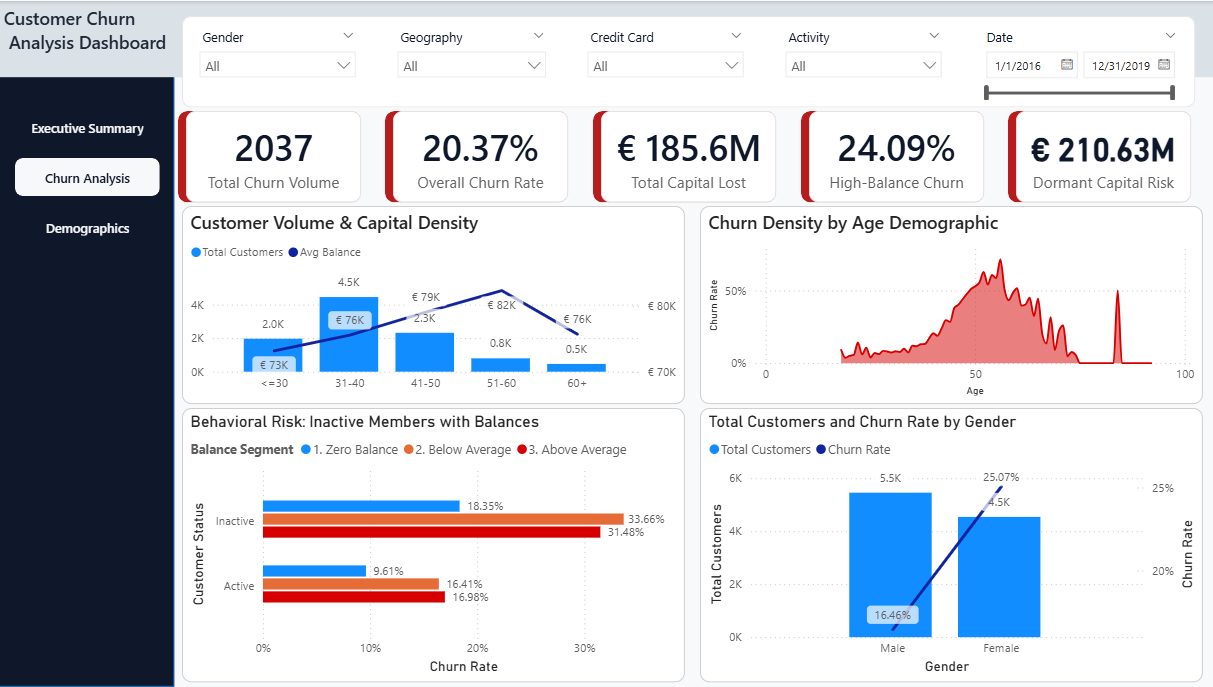

What the dashboard file says about the page in this screenshot:
{"tool":"powerbi","page":{"name":"Churn Analysis","canvas":[1280,720],"ordinal":1},"visuals":[{"type":"shape","box":[0,0,184,720],"z":0},{"type":"shape","box":[623.7,115.8,192,96],"z":0,"group":"g3"},{"type":"shape","box":[841.7,115.8,192,96],"z":0,"group":"g5"},{"type":"shape","box":[184,0,1096,80],"z":1000},{"type":"shape","box":[1059.7,115.8,192,96],"z":1000,"group":"g4"},{"type":"textbox","box":[0,0,224,80],"z":2000},{"type":"shape","box":[192,16,1064,96],"z":2000,"group":"g1"},{"type":"shape","box":[187.7,115.8,192,96],"z":2000,"group":"g2"},{"type":"shape","box":[405.7,115.8,192,96],"z":2000,"group":"g6"},{"type":"actionButton","box":[16.5,111.9,152,40],"z":3000},{"type":"slicer","fields":{"Values":["Geography.GeographyLocation"]},"box":[408,24,176,80],"z":4000,"group":"g1"},{"type":"actionButton","box":[16.5,217.5,152,40],"z":4000},{"type":"actionButton","box":[16.5,164.7,152,40],"z":5000},{"type":"slicer","fields":{"Values":["Gender.GenderCategory"]},"box":[200,24,184,80],"z":6000,"group":"g1"},{"type":"slicer","fields":{"Values":["CreditCard.Category"]},"box":[608,24,184,80],"z":7000,"group":"g1"},{"type":"card","fields":{"Values":["Bank_Churn.Total Churned"]},"box":[195.7,115.8,184,96],"z":8000,"group":"g2"},{"type":"card","fields":{"Values":["Bank_Churn.Churn Rate"]},"box":[413.7,115.8,184,96],"z":8000,"group":"g6"},{"type":"group","id":"g1","title":"Group 6","box":[192,16,1072,96],"z":9000},{"type":"slicer","fields":{"Values":["ActiveCustomer.ActiveCategory"]},"box":[816,24,184,80],"z":9000,"group":"g1"},{"type":"slicer","fields":{"Values":["Bank_Churn.Bank DOJ"]},"box":[1024,24,224,80],"z":10000,"group":"g1"},{"type":"group","id":"g2","title":"Group 2","box":[187.7,115.8,192,96],"z":10000},{"type":"group","id":"g3","title":"Group 3","box":[623.7,115.8,192,96],"z":11000},{"type":"card","fields":{"Values":["Bank_Churn.At-Risk High-Value"]},"box":[1067.7,115.8,184,96],"z":11000,"group":"g4"},{"type":"card","fields":{"Values":["Bank_Churn.Churn Rate (Above Avg)"]},"box":[849.7,115.8,184,96],"z":12000,"group":"g5"},{"type":"group","id":"g4","title":"Group 4","box":[1059.7,115.8,192,96],"z":12000},{"type":"group","id":"g5","title":"Group 5","box":[841.7,115.8,192,96],"z":13000},{"type":"card","fields":{"Values":["Bank_Churn.Total Churn Loss"]},"box":[631.7,115.8,184,96],"z":14000,"group":"g3"},{"type":"areaChart","title":"Churn Density by Age Demographic","fields":{"Y":["Bank_Churn.Churn Rate"],"Category":["Bank_Churn.Age"]},"box":[736,215,528,208],"z":14000},{"type":"group","id":"g6","title":"Group 2","box":[405.7,115.8,192,96],"z":15000},{"type":"lineClusteredColumnComboChart","title":"Customer Volume & Capital Density","fields":{"Category":["Bank_Churn.Age Group"],"Y":["Bank_Churn.Total Customers"],"Y2":["Bank_Churn.Avg Balance"]},"box":[192,215,528,208],"z":16000},{"type":"lineClusteredColumnComboChart","fields":{"Category":["Gender.Gender"],"Y":["Bank_Churn.Total Customers"],"Y2":["Bank_Churn.Churn Rate"]},"box":[736,427,528,288],"z":17000},{"type":"clusteredBarChart","title":"Behavioral Risk: Inactive Members with Balances","fields":{"Category":["ActiveCustomer.Customer Status"],"Y":["Bank_Churn.Churn Rate"],"Series":["Bank_Churn.Balance Segment"]},"box":[192,427,528,288],"z":18000}]}

Visuals, with their boxes on the page's 1280x720 design canvas (x1, y1, x2, y2). These are canvas units, not pixel positions in the 1213x687 screenshot, which may show the page scaled, cropped or inside an application window:
shape: 0 0 184 720
shape: 624 116 816 212
shape: 842 116 1034 212
shape: 184 0 1280 80
shape: 1060 116 1252 212
textbox: 0 0 224 80
shape: 192 16 1256 112
shape: 188 116 380 212
shape: 406 116 598 212
actionButton: 16 112 168 152
slicer - Geography.GeographyLocation: 408 24 584 104
actionButton: 16 218 168 258
actionButton: 16 165 168 205
slicer - Gender.GenderCategory: 200 24 384 104
slicer - CreditCard.Category: 608 24 792 104
card - Bank_Churn.Total Churned: 196 116 380 212
card - Bank_Churn.Churn Rate: 414 116 598 212
"Group 6" group: 192 16 1264 112
slicer - ActiveCustomer.ActiveCategory: 816 24 1000 104
slicer - Bank_Churn.Bank DOJ: 1024 24 1248 104
"Group 2" group: 188 116 380 212
"Group 3" group: 624 116 816 212
card - Bank_Churn.At-Risk High-Value: 1068 116 1252 212
card - Bank_Churn.Churn Rate (Above Avg): 850 116 1034 212
"Group 4" group: 1060 116 1252 212
"Group 5" group: 842 116 1034 212
card - Bank_Churn.Total Churn Loss: 632 116 816 212
"Churn Density by Age Demographic" areaChart: 736 215 1264 423
"Group 2" group: 406 116 598 212
"Customer Volume & Capital Density" lineClusteredColumnComboChart: 192 215 720 423
lineClusteredColumnComboChart - Gender.Gender x Bank_Churn.Total Customers: 736 427 1264 715
"Behavioral Risk: Inactive Members with Balances" clusteredBarChart: 192 427 720 715
